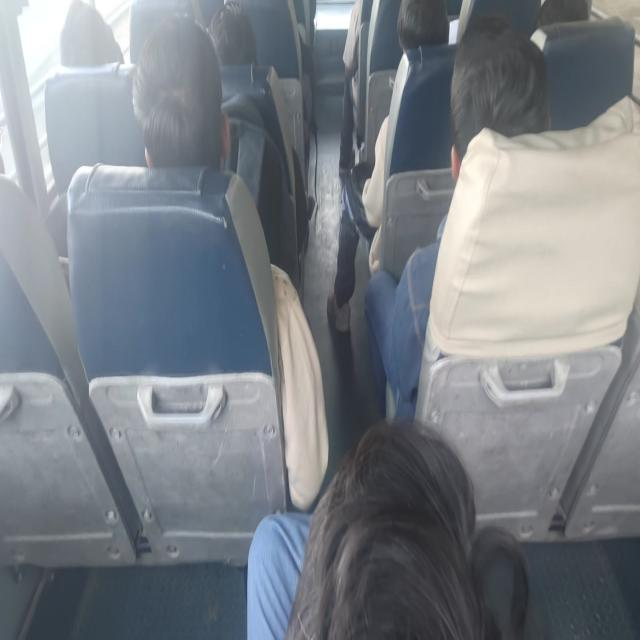person: (281, 407, 522, 640), (443, 35, 545, 188), (132, 28, 216, 171), (55, 0, 125, 68), (394, 0, 455, 66), (203, 0, 257, 68), (536, 0, 594, 30)
